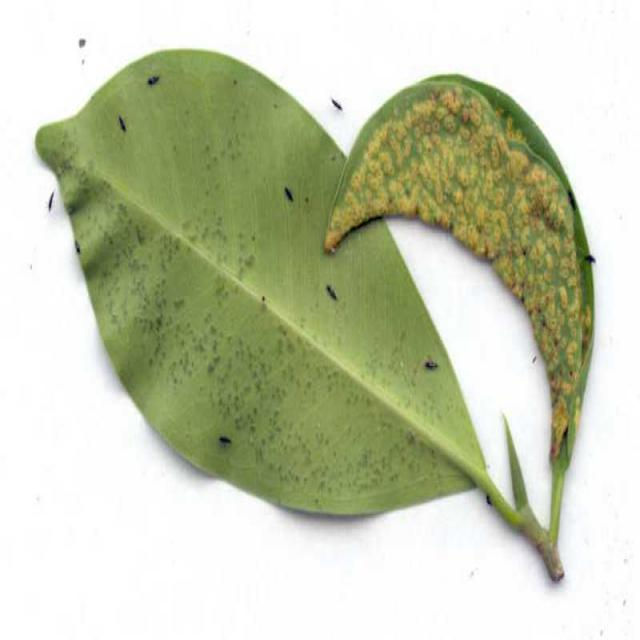Thrip-Adult-: (321, 275, 342, 308), (280, 177, 297, 209), (113, 108, 132, 136), (581, 250, 601, 272), (45, 189, 59, 216), (567, 183, 577, 220), (216, 431, 236, 449), (422, 354, 441, 372), (329, 92, 344, 114), (144, 71, 163, 87), (72, 230, 82, 260)
Thrip-Group-: (115, 248, 243, 390), (211, 341, 295, 416)
